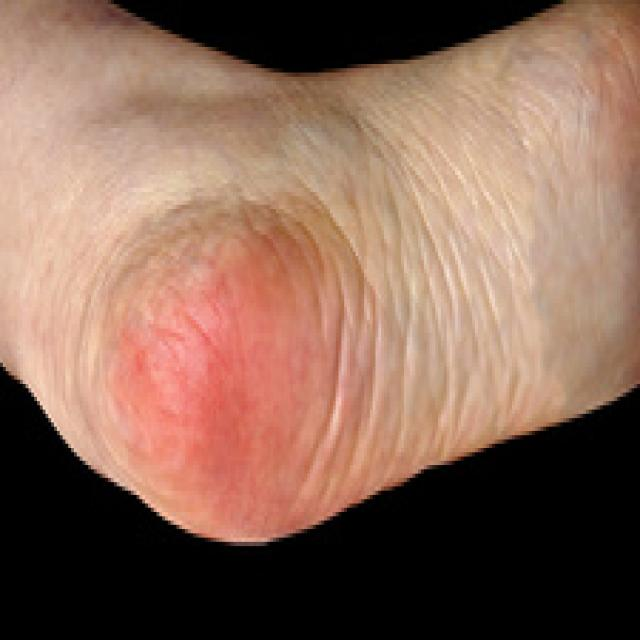stage-1: (120, 239, 306, 519)
